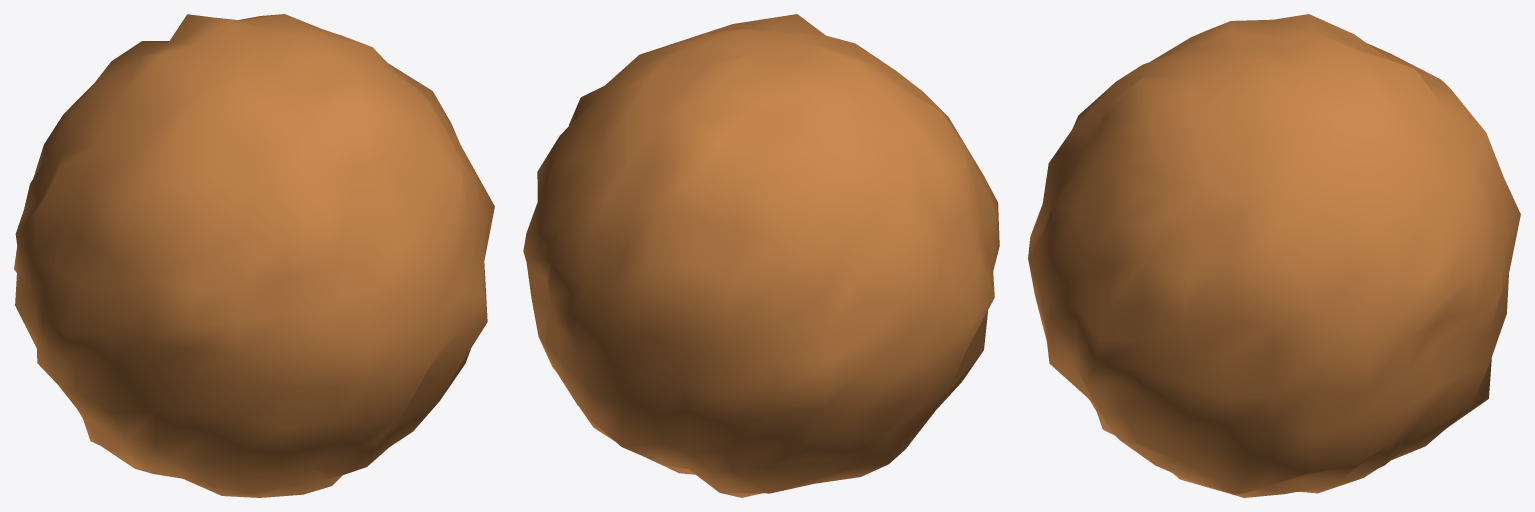
The model's file is Rough_sphere.FBX.
3 views of the same model, side by side, from view 1: azimuth 30°, elevation 25°; view 2: azimuth 150°, elevation 25°; view 3: azimuth 270°, elevation 25° (orthographic). The views are drawn at different scales.
Visible parts, largest first — view 1: Box028; view 2: Box028; view 3: Box028.
Part boxes in pixels (x1,y1,x2,y2): Box028: (14,14,494,497); Box028: (523,14,999,497); Box028: (1028,14,1520,497).
Bounding box in the file's own units: 41.43 × 41.04 × 41.24.
